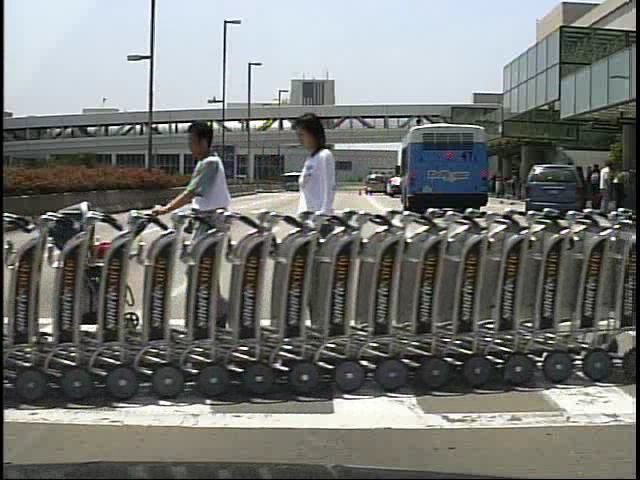person: (161, 120, 243, 342), (286, 116, 360, 349), (596, 160, 617, 210), (587, 163, 604, 211)
